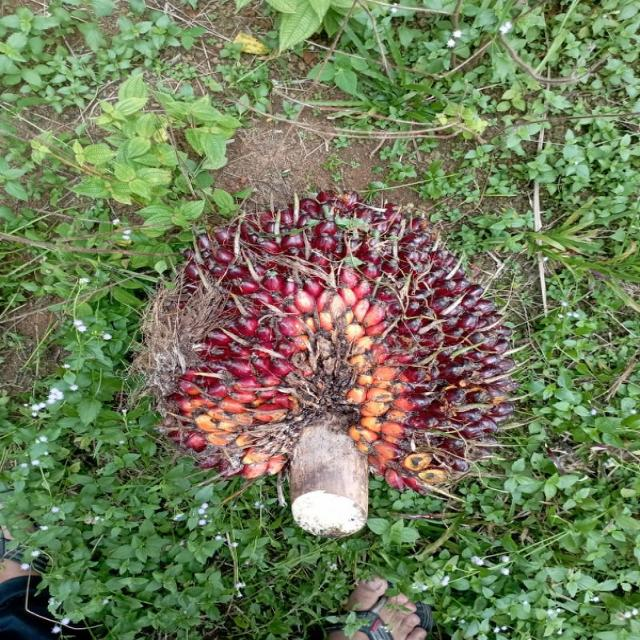fraksi 1: (100, 172, 540, 533)
